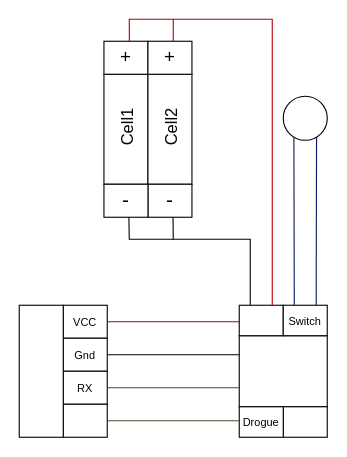
This 347x457 diagram has some shape labels left out. Here are the shapes that lost their labels. From the top down, the centre of each, then its label:
At point 304,117: "S3".
At point 260,320: "Battery".
At point 40,370: "XBEE".
At point 282,371: "Airborne Ace".
At point 84,420: "TX".
At point 304,421: "Main".
